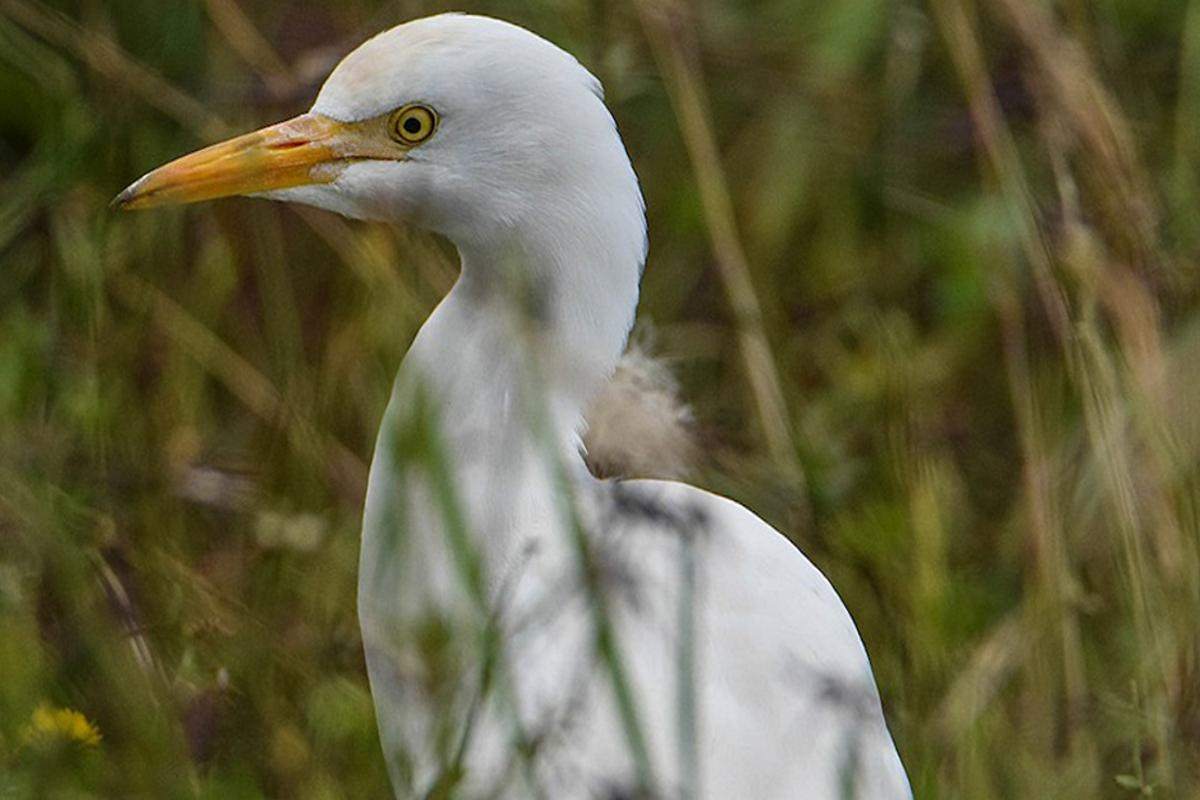egret: (123, 20, 938, 792)
